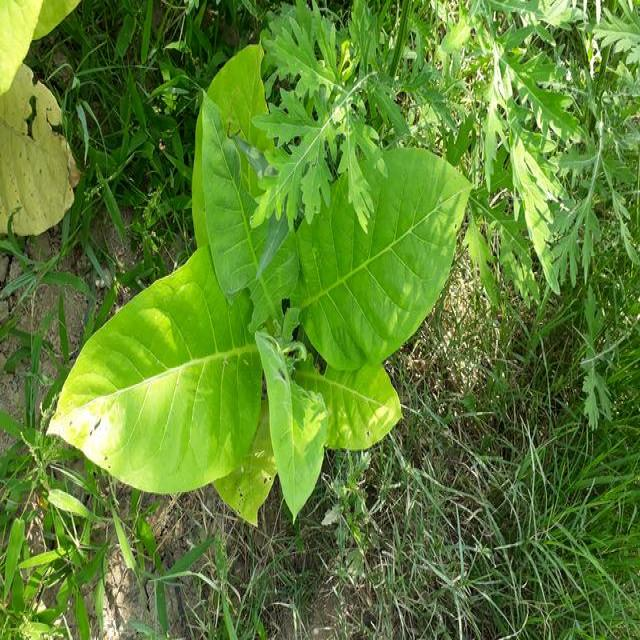crop: (77, 58, 466, 519), (0, 0, 89, 235)
